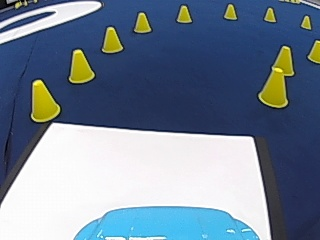cone: (257, 60, 289, 107), (29, 77, 60, 121), (67, 48, 94, 83), (271, 44, 295, 75), (100, 25, 123, 52), (133, 11, 151, 33), (175, 4, 192, 23), (306, 39, 319, 63), (223, 3, 237, 20), (263, 6, 276, 22), (300, 14, 311, 29)
